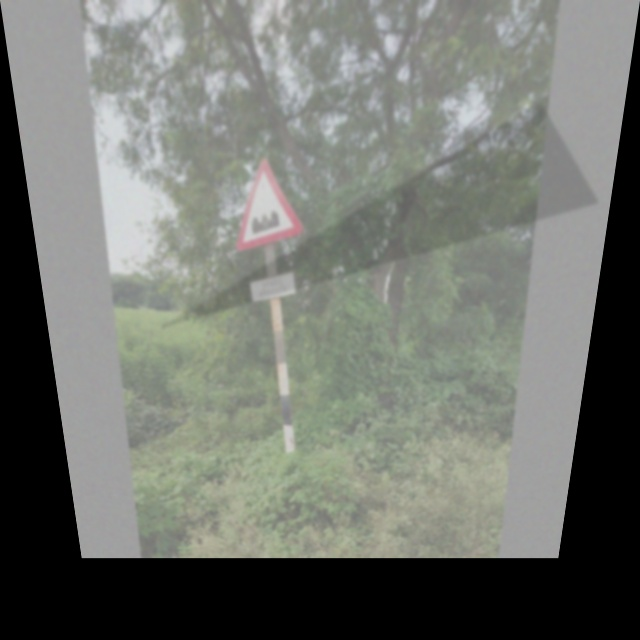Hump_or_Rough_Road: (230, 157, 306, 249)
